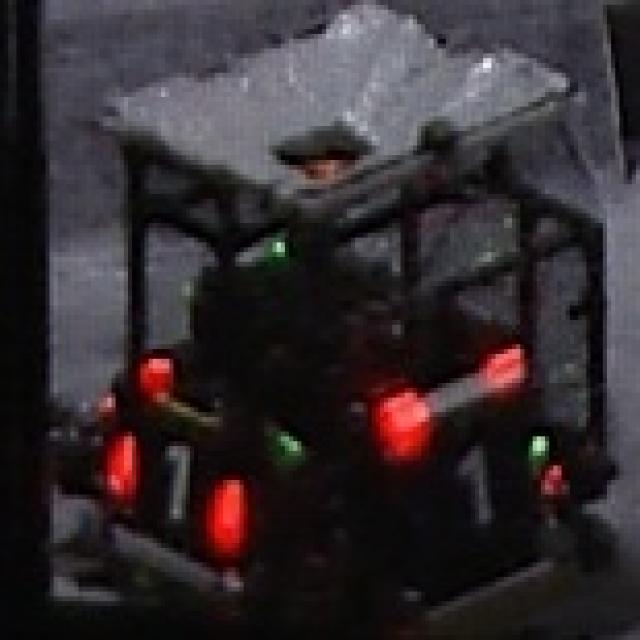R1: (107, 427, 244, 552)
